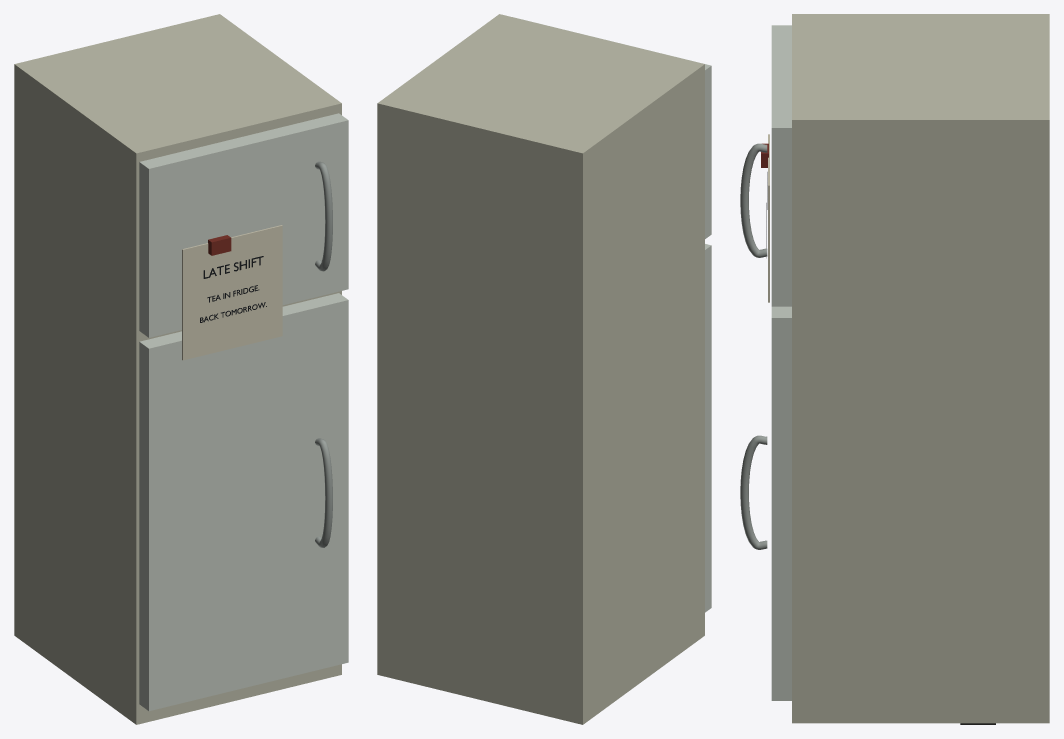
The model's file is kitchen-fridge.glb.
3 renders of one model, left to right at view 1: azimuth 30°, elevation 25°; view 2: azimuth 150°, elevation 25°; view 3: azimuth 270°, elevation 25°, orthographic. The views are drawn at different scales.
Parts seen in each view (by area): view 1: Old fridge body, Fridge door.001, Fridge door, Fridge note, Fridge door handle, Fridge door handle.001; view 2: Old fridge body, Fridge door.001, Fridge door; view 3: Old fridge body, Fridge door.001, Fridge door, Fridge door handle, Fridge door handle.001.
Boxes of the visible parts, x1,y1,x2,y2 form: Old fridge body: (14,14,341,724); Fridge door.001: (139,293,348,711); Fridge door: (139,113,348,337); Fridge note: (182,225,282,360); Fridge door handle: (315,161,332,271); Fridge door handle.001: (315,438,332,547); Old fridge body: (377,14,704,724); Fridge door.001: (705,244,711,612); Fridge door: (512,17,711,238); Old fridge body: (792,14,1049,723); Fridge door.001: (771,306,791,700); Fridge door: (771,25,791,306); Fridge door handle: (740,143,767,257); Fridge door handle.001: (740,435,767,549).
Size of the model in its own units: 0.7 by 1.89 by 0.8641.
